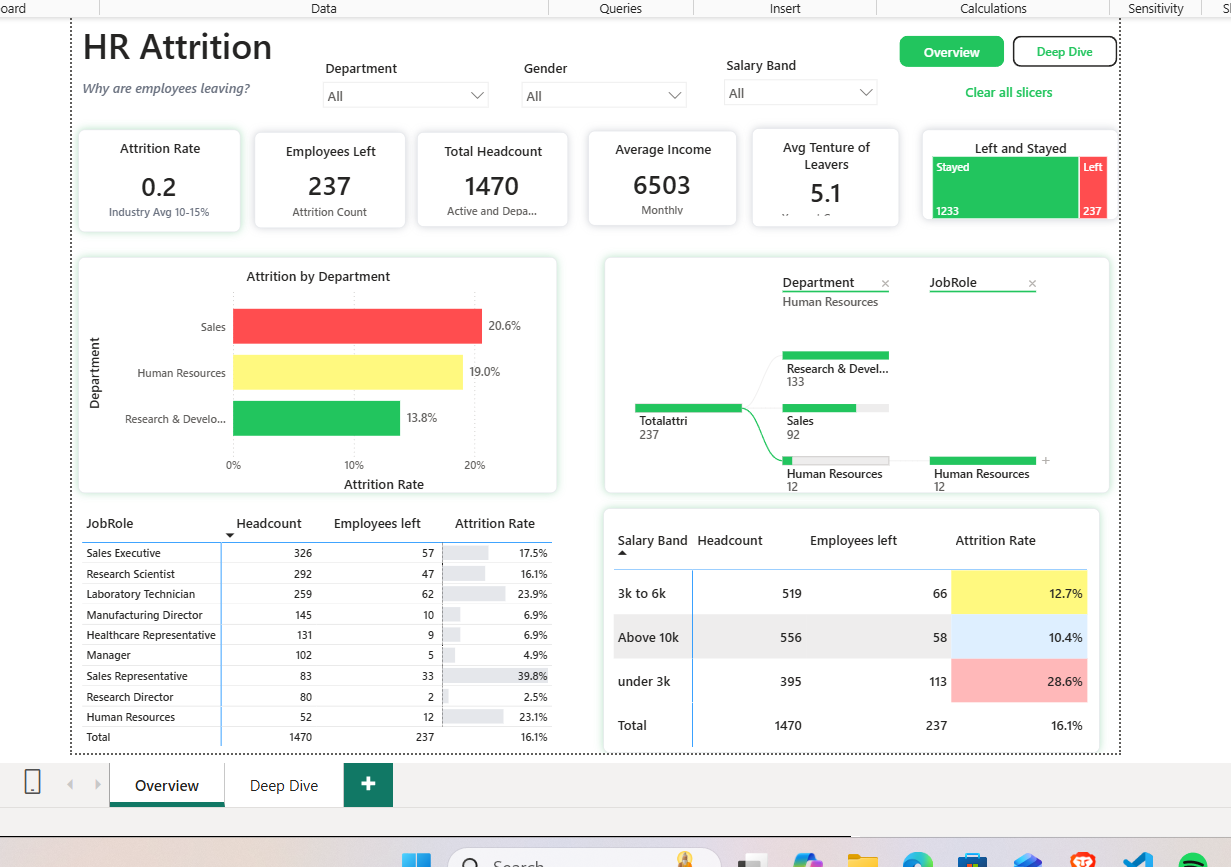

This screenshot's page, from the dashboard's own definition file:
{"tool":"powerbi","page":{"name":"Overview","canvas":[1280,900],"ordinal":0},"visuals":[{"type":"textbox","box":[7.6,0,269,91.7],"z":0},{"type":"textbox","box":[7.6,70.3,249.2,44.3],"z":1000},{"type":"slicer","fields":{"Values":["HR_dataset.Department"]},"box":[296.5,45.9,223.2,67.3],"z":2000},{"type":"slicer","fields":{"Values":["HR_dataset.Gender"]},"box":[539.6,45.9,221.6,67.3],"z":3000},{"type":"slicer","fields":{"Values":["HR_dataset.Salary Band"]},"box":[787.2,42.8,207.9,70.3],"z":4000},{"type":"actionButton","box":[1045.5,65.7,200.2,50.4],"z":5000},{"type":"pageNavigator","box":[1011.9,22.9,267.5,38.2],"z":6000},{"type":"cardVisual","title":"Attrition Rate","fields":{"Data":["HR_dataset.Attrition Rate"]},"box":[7.6,137.6,198.7,125.3],"z":7000},{"type":"cardVisual","title":"Avg Tenture of Leavers","fields":{"Data":["HR_dataset.Avg Tenure of Leavers"]},"box":[831.5,136,180.4,120.8],"z":8000},{"type":"cardVisual","title":"Average Income","fields":{"Data":["HR_dataset.Avg Monthly Income"]},"box":[630.8,139.1,181.9,116.2],"z":9000},{"type":"cardVisual","title":"Employees Left","fields":{"Data":["HR_dataset.Employees left"]},"box":[223.2,140.6,185,117.7],"z":10000},{"type":"cardVisual","title":"Total Headcount","fields":{"Data":["HR_dataset.Headcount"]},"box":[421.9,140.6,185,116.2],"z":11000},{"type":"treemap","fields":{"Values":["HR_dataset.Employees left","HR_dataset.Employees stayed"]},"box":[1039.4,137.6,240,110.1],"z":12000},{"type":"barChart","title":"Attrition by Department","fields":{"Category":["HR_dataset.Department"],"Y":["HR_dataset.Attrition Rate"]},"box":[7.6,293.5,585.4,288.9],"z":13000},{"type":"decompositionTreeVisual","fields":{"ExplainBy":["HR_dataset.Department","HR_dataset.JobRole","HR_dataset.Salary Band"],"Analyze":["HR_dataset.Totalattri"]},"box":[651.2,293.5,617.5,288.9],"z":14000},{"type":"pivotTable","fields":{"Rows":["HR_dataset.JobRole"],"Values":["HR_dataset.Headcount","HR_dataset.Employees left","HR_dataset.Attrition Rate"]},"box":[7.6,599.2,585.4,301.1],"z":15000},{"type":"pivotTable","fields":{"Rows":["HR_dataset.Salary Band"],"Values":["HR_dataset.Headcount","HR_dataset.Employees left","HR_dataset.Attrition Rate"]},"box":[649.6,600.7,606.8,299.6],"z":16000}]}

Visuals, with their boxes on the page's 1280x900 design canvas (x1, y1, x2, y2). These are canvas units, not pixel positions in the 1231x867 screenshot, which may show the page scaled, cropped or inside an application window:
textbox: select_region(8, 0, 277, 92)
textbox: select_region(8, 70, 257, 115)
slicer - HR_dataset.Department: select_region(296, 46, 520, 113)
slicer - HR_dataset.Gender: select_region(540, 46, 761, 113)
slicer - HR_dataset.Salary Band: select_region(787, 43, 995, 113)
actionButton: select_region(1046, 66, 1246, 116)
pageNavigator: select_region(1012, 23, 1279, 61)
"Attrition Rate" cardVisual: select_region(8, 138, 206, 263)
"Avg Tenture of Leavers" cardVisual: select_region(832, 136, 1012, 257)
"Average Income" cardVisual: select_region(631, 139, 813, 255)
"Employees Left" cardVisual: select_region(223, 141, 408, 258)
"Total Headcount" cardVisual: select_region(422, 141, 607, 257)
treemap - HR_dataset.Employees left x HR_dataset.Employees stayed: select_region(1039, 138, 1279, 248)
"Attrition by Department" barChart: select_region(8, 294, 593, 582)
decompositionTreeVisual - HR_dataset.Department x HR_dataset.JobRole: select_region(651, 294, 1269, 582)
pivotTable - HR_dataset.JobRole x HR_dataset.Headcount: select_region(8, 599, 593, 900)
pivotTable - HR_dataset.Salary Band x HR_dataset.Headcount: select_region(650, 601, 1256, 900)
